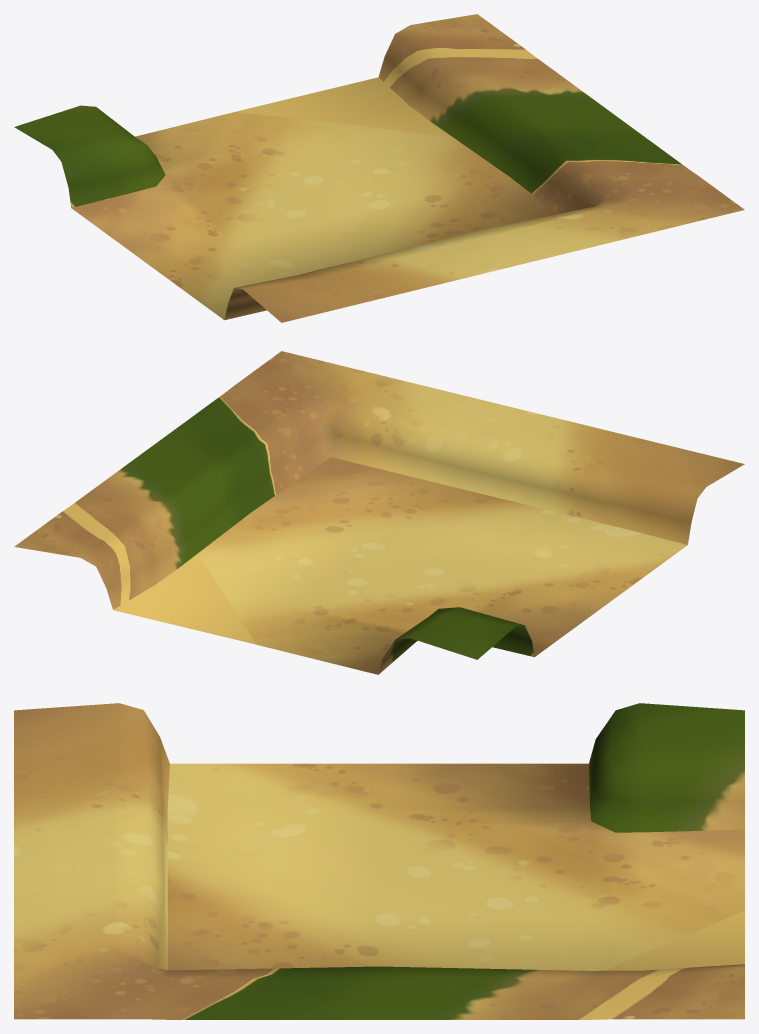
File: RoadCorner.fbx
The picture shows the model from 3 angles, top to bottom: view 1: azimuth 30°, elevation 25°; view 2: azimuth 150°, elevation 25°; view 3: azimuth 270°, elevation 25°; orthographic projection. The views are drawn at different scales.
Visible parts, largest first — view 1: Plane.000; view 2: Plane.000; view 3: Plane.000.
Part boxes in pixels (<box>): Plane.000: <box>14,14,744,322</box>; Plane.000: <box>14,351,744,674</box>; Plane.000: <box>14,703,744,1019</box>.
Bounding box in the file's own units: 1000 × 91.62 × 1000.
